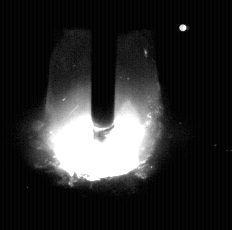arame: (91, 0, 116, 127)
poca: (42, 0, 164, 230)
